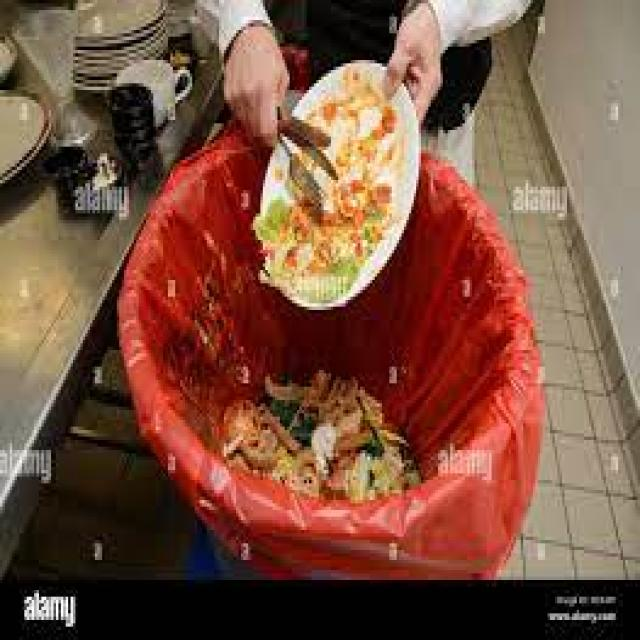Organik: (88, 0, 591, 584), (204, 42, 450, 320), (222, 380, 428, 511)
